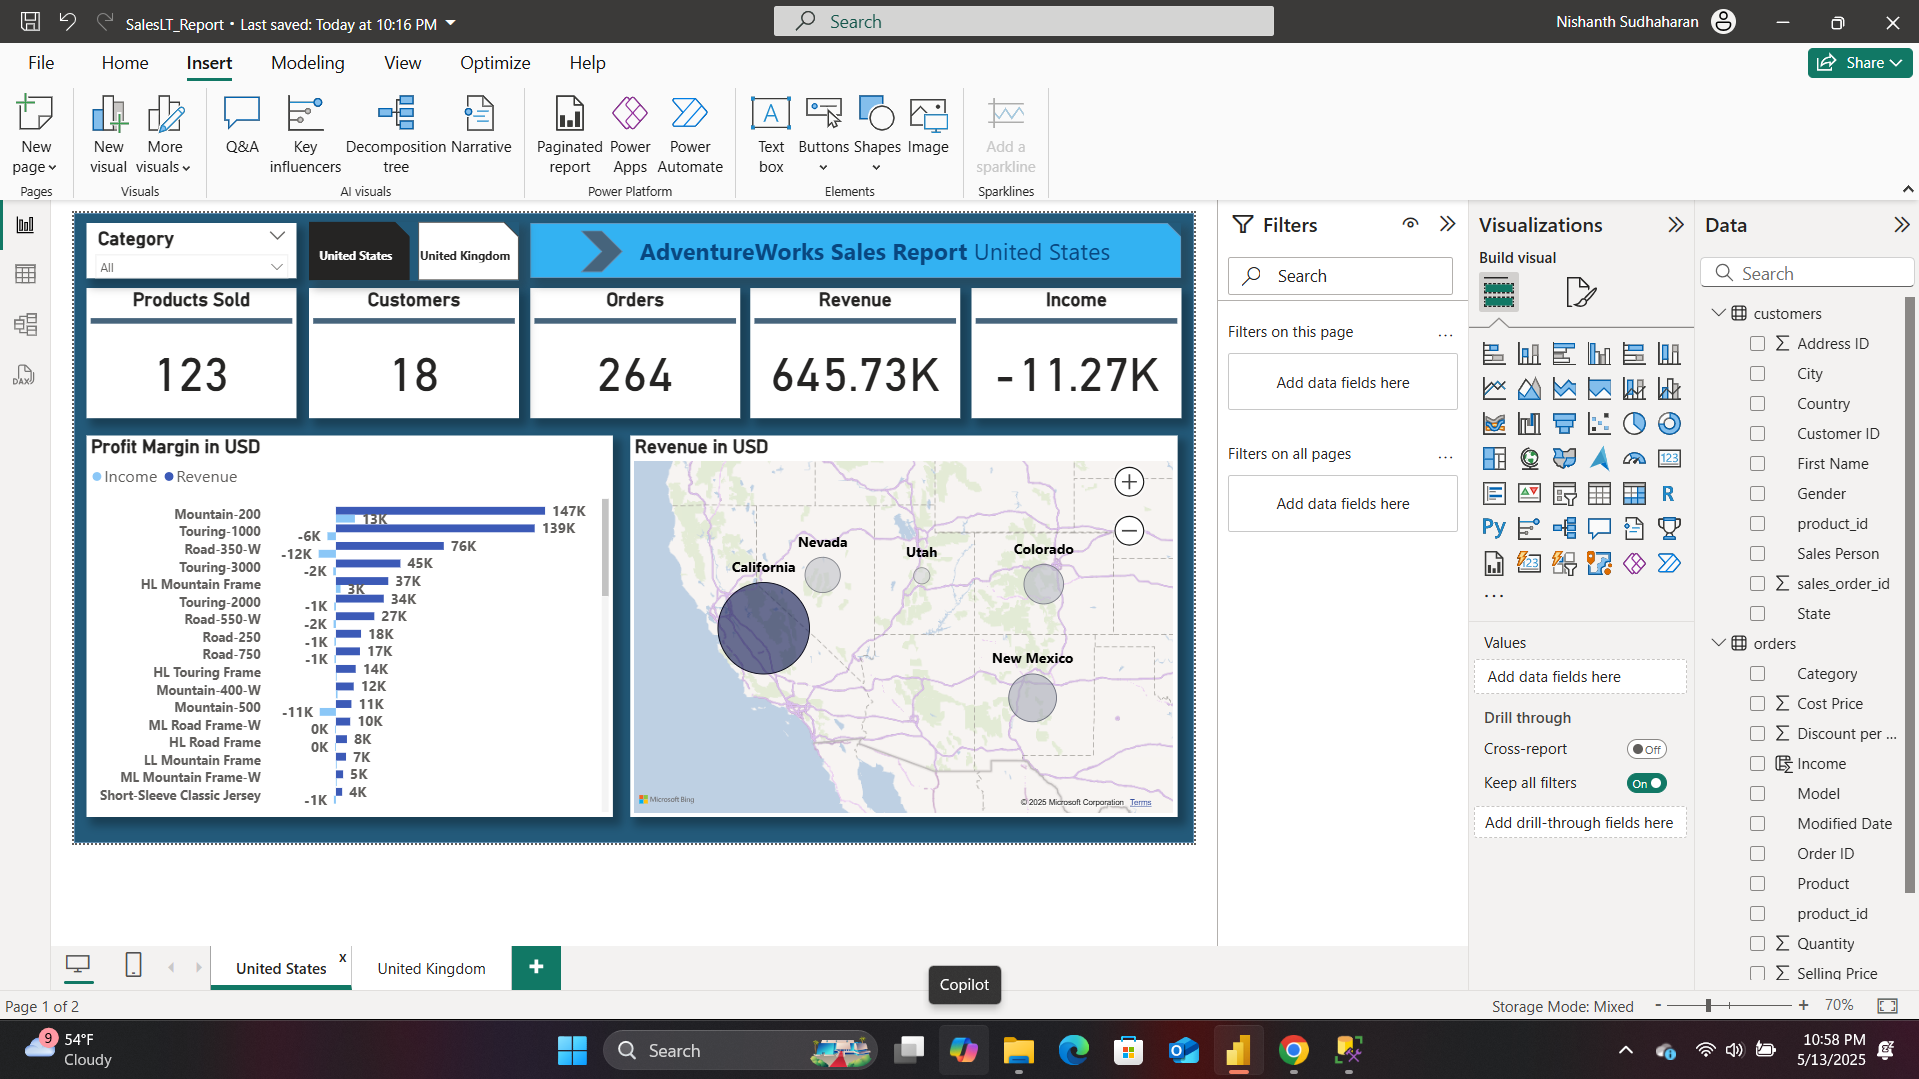

This screenshot's page, from the dashboard's own definition file:
{"tool":"powerbi","page":{"name":"United States","canvas":[1280,720],"ordinal":0},"visuals":[{"type":"shape","box":[0,0,1280,720],"z":0},{"type":"card","title":"Products Sold","fields":{"Values":["Count(customers.product_id)"]},"box":[14.3,85.7,240,148.6],"z":1000},{"type":"card","title":"Orders","fields":{"Values":["CountNonNull(customers.product_id)"]},"box":[521.4,85.7,240,148.6],"z":2000},{"type":"card","title":"Customers","fields":{"Values":["Count(customers.Customer ID)"]},"box":[268.6,85.7,240,148.6],"z":3000},{"type":"card","title":"Revenue","fields":{"Values":["Sum(orders.Total Price)"]},"box":[772.9,85.7,240,148.6],"z":4000},{"type":"card","title":"Income","fields":{"Values":["Sum(orders.Income)"]},"box":[1025.7,85.7,240,148.6],"z":5000},{"type":"slicer","fields":{"Values":["orders.Category"]},"box":[14.3,11.4,240,62.9],"z":6000},{"type":"shape","box":[521.4,11.4,744.3,62.9],"z":7000},{"type":"shape","box":[579,20,49,48.1],"z":8000},{"type":"textbox","box":[641.8,20,613.6,60],"z":9000},{"type":"clusteredBarChart","title":"Profit Margin in USD","fields":{"Y":["Sum(orders.Income)","Sum(orders.Total Price)"],"Category":["orders.Model"]},"box":[14.3,254.3,601.4,435.7],"z":10000},{"type":"map","title":"Revenue in USD","fields":{"Category":["customers.State"],"Size":["Sum(orders.Total Price)"]},"box":[635.7,254.3,625.7,435.7],"z":11000},{"type":"pageNavigator","box":[268.8,9.6,240,67.1],"z":12000}]}

Visuals, with their boxes on the page's 1280x720 design canvas (x1, y1, x2, y2). These are canvas units, not pixel positions in the 1919x1079 screenshot, which may show the page scaled, cropped or inside an application window:
shape: rect(0, 0, 1280, 720)
"Products Sold" card: rect(14, 86, 254, 234)
"Orders" card: rect(521, 86, 761, 234)
"Customers" card: rect(269, 86, 509, 234)
"Revenue" card: rect(773, 86, 1013, 234)
"Income" card: rect(1026, 86, 1266, 234)
slicer - orders.Category: rect(14, 11, 254, 74)
shape: rect(521, 11, 1266, 74)
shape: rect(579, 20, 628, 68)
textbox: rect(642, 20, 1255, 80)
"Profit Margin in USD" clusteredBarChart: rect(14, 254, 616, 690)
"Revenue in USD" map: rect(636, 254, 1261, 690)
pageNavigator: rect(269, 10, 509, 77)
